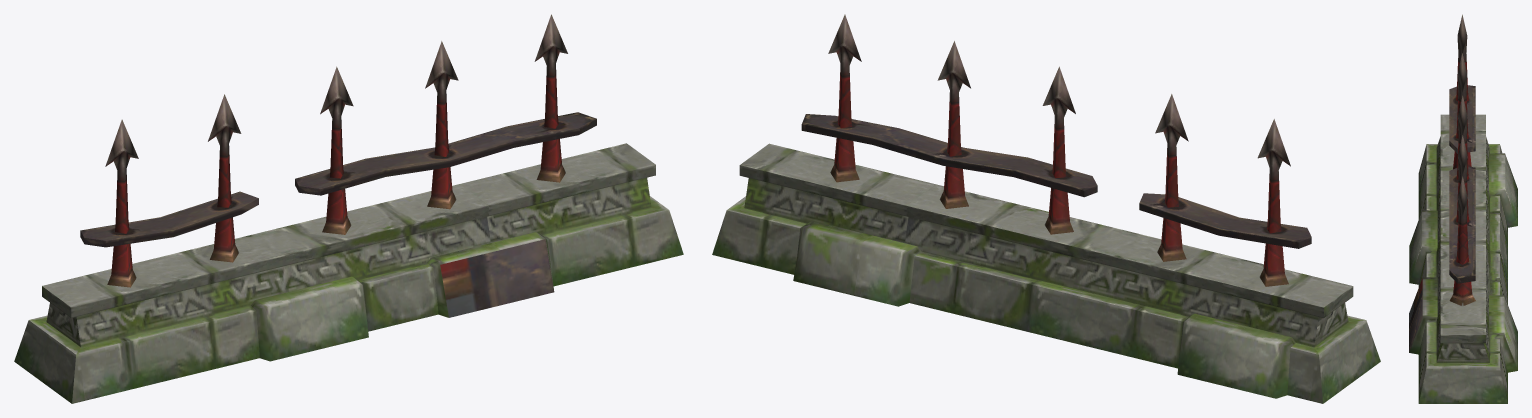
The model's file is zc_zhanchang001_langan01_56_15_6457out.fbx.
The picture shows the model from 3 angles, left to right: view 1: azimuth 30°, elevation 25°; view 2: azimuth 150°, elevation 25°; view 3: azimuth 270°, elevation 25°; orthographic projection. The views are drawn at different scales.
Parts seen in each view (by area): view 1: zc_zhanchang001_langan01; view 2: zc_zhanchang001_langan01; view 3: zc_zhanchang001_langan01.
Boxes of the visible parts, left/top/right/bottom form: zc_zhanchang001_langan01: left=14, top=14, right=683, bottom=403; zc_zhanchang001_langan01: left=712, top=14, right=1380, bottom=403; zc_zhanchang001_langan01: left=1409, top=14, right=1517, bottom=403.
Bounding box in the file's own units: 5.23 × 2 × 1.04.
